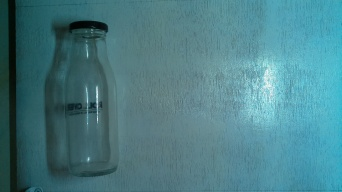f: (53, 16, 136, 177)
